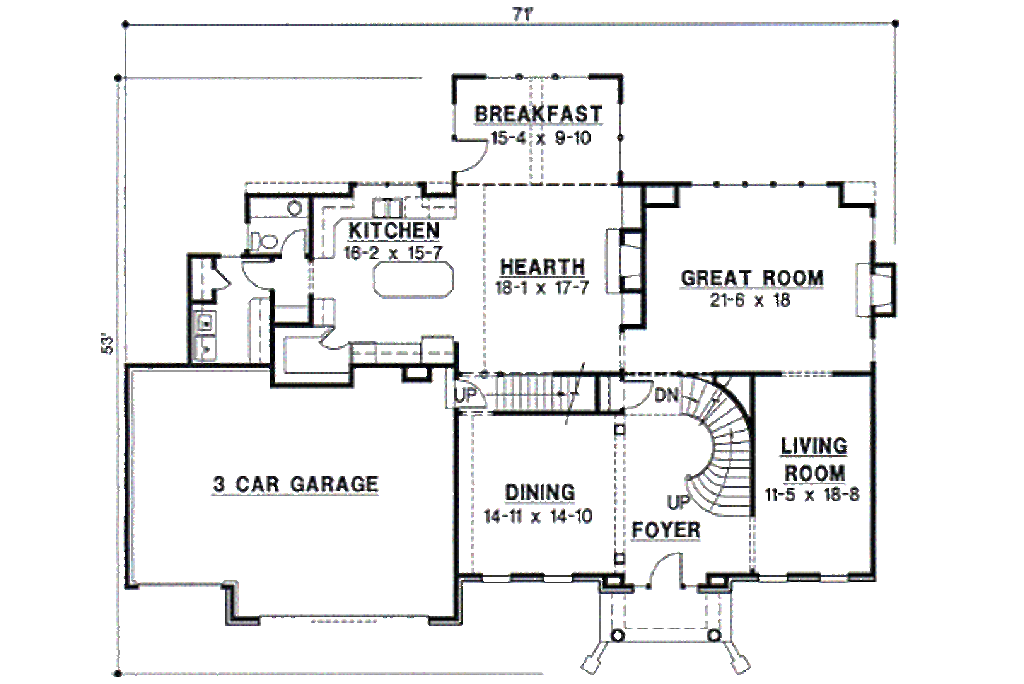door: (239, 255, 278, 293), (649, 550, 684, 591), (454, 136, 491, 172), (623, 375, 654, 409), (279, 228, 308, 261), (318, 325, 350, 353)
kitchen_bar: (366, 257, 459, 305)
large_sink: (247, 231, 283, 255)
small_sink: (248, 195, 314, 219)
stairs: (655, 372, 759, 523), (487, 370, 610, 420)
windows: (478, 571, 577, 585)
